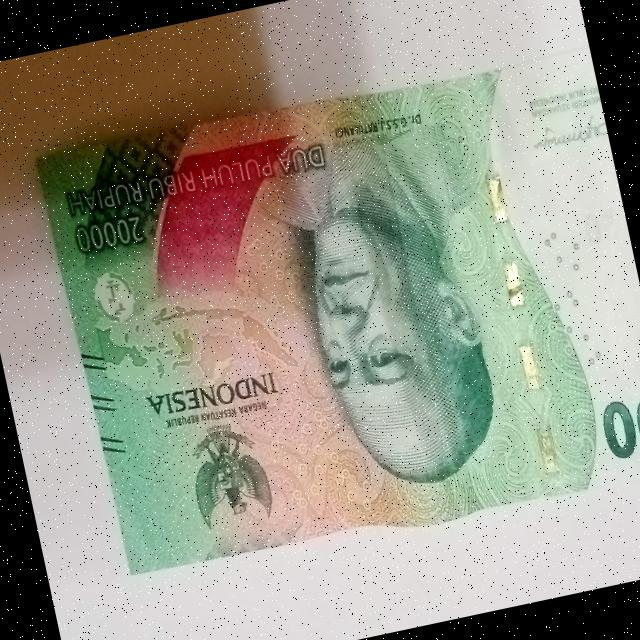20K: (24, 24, 640, 601)
